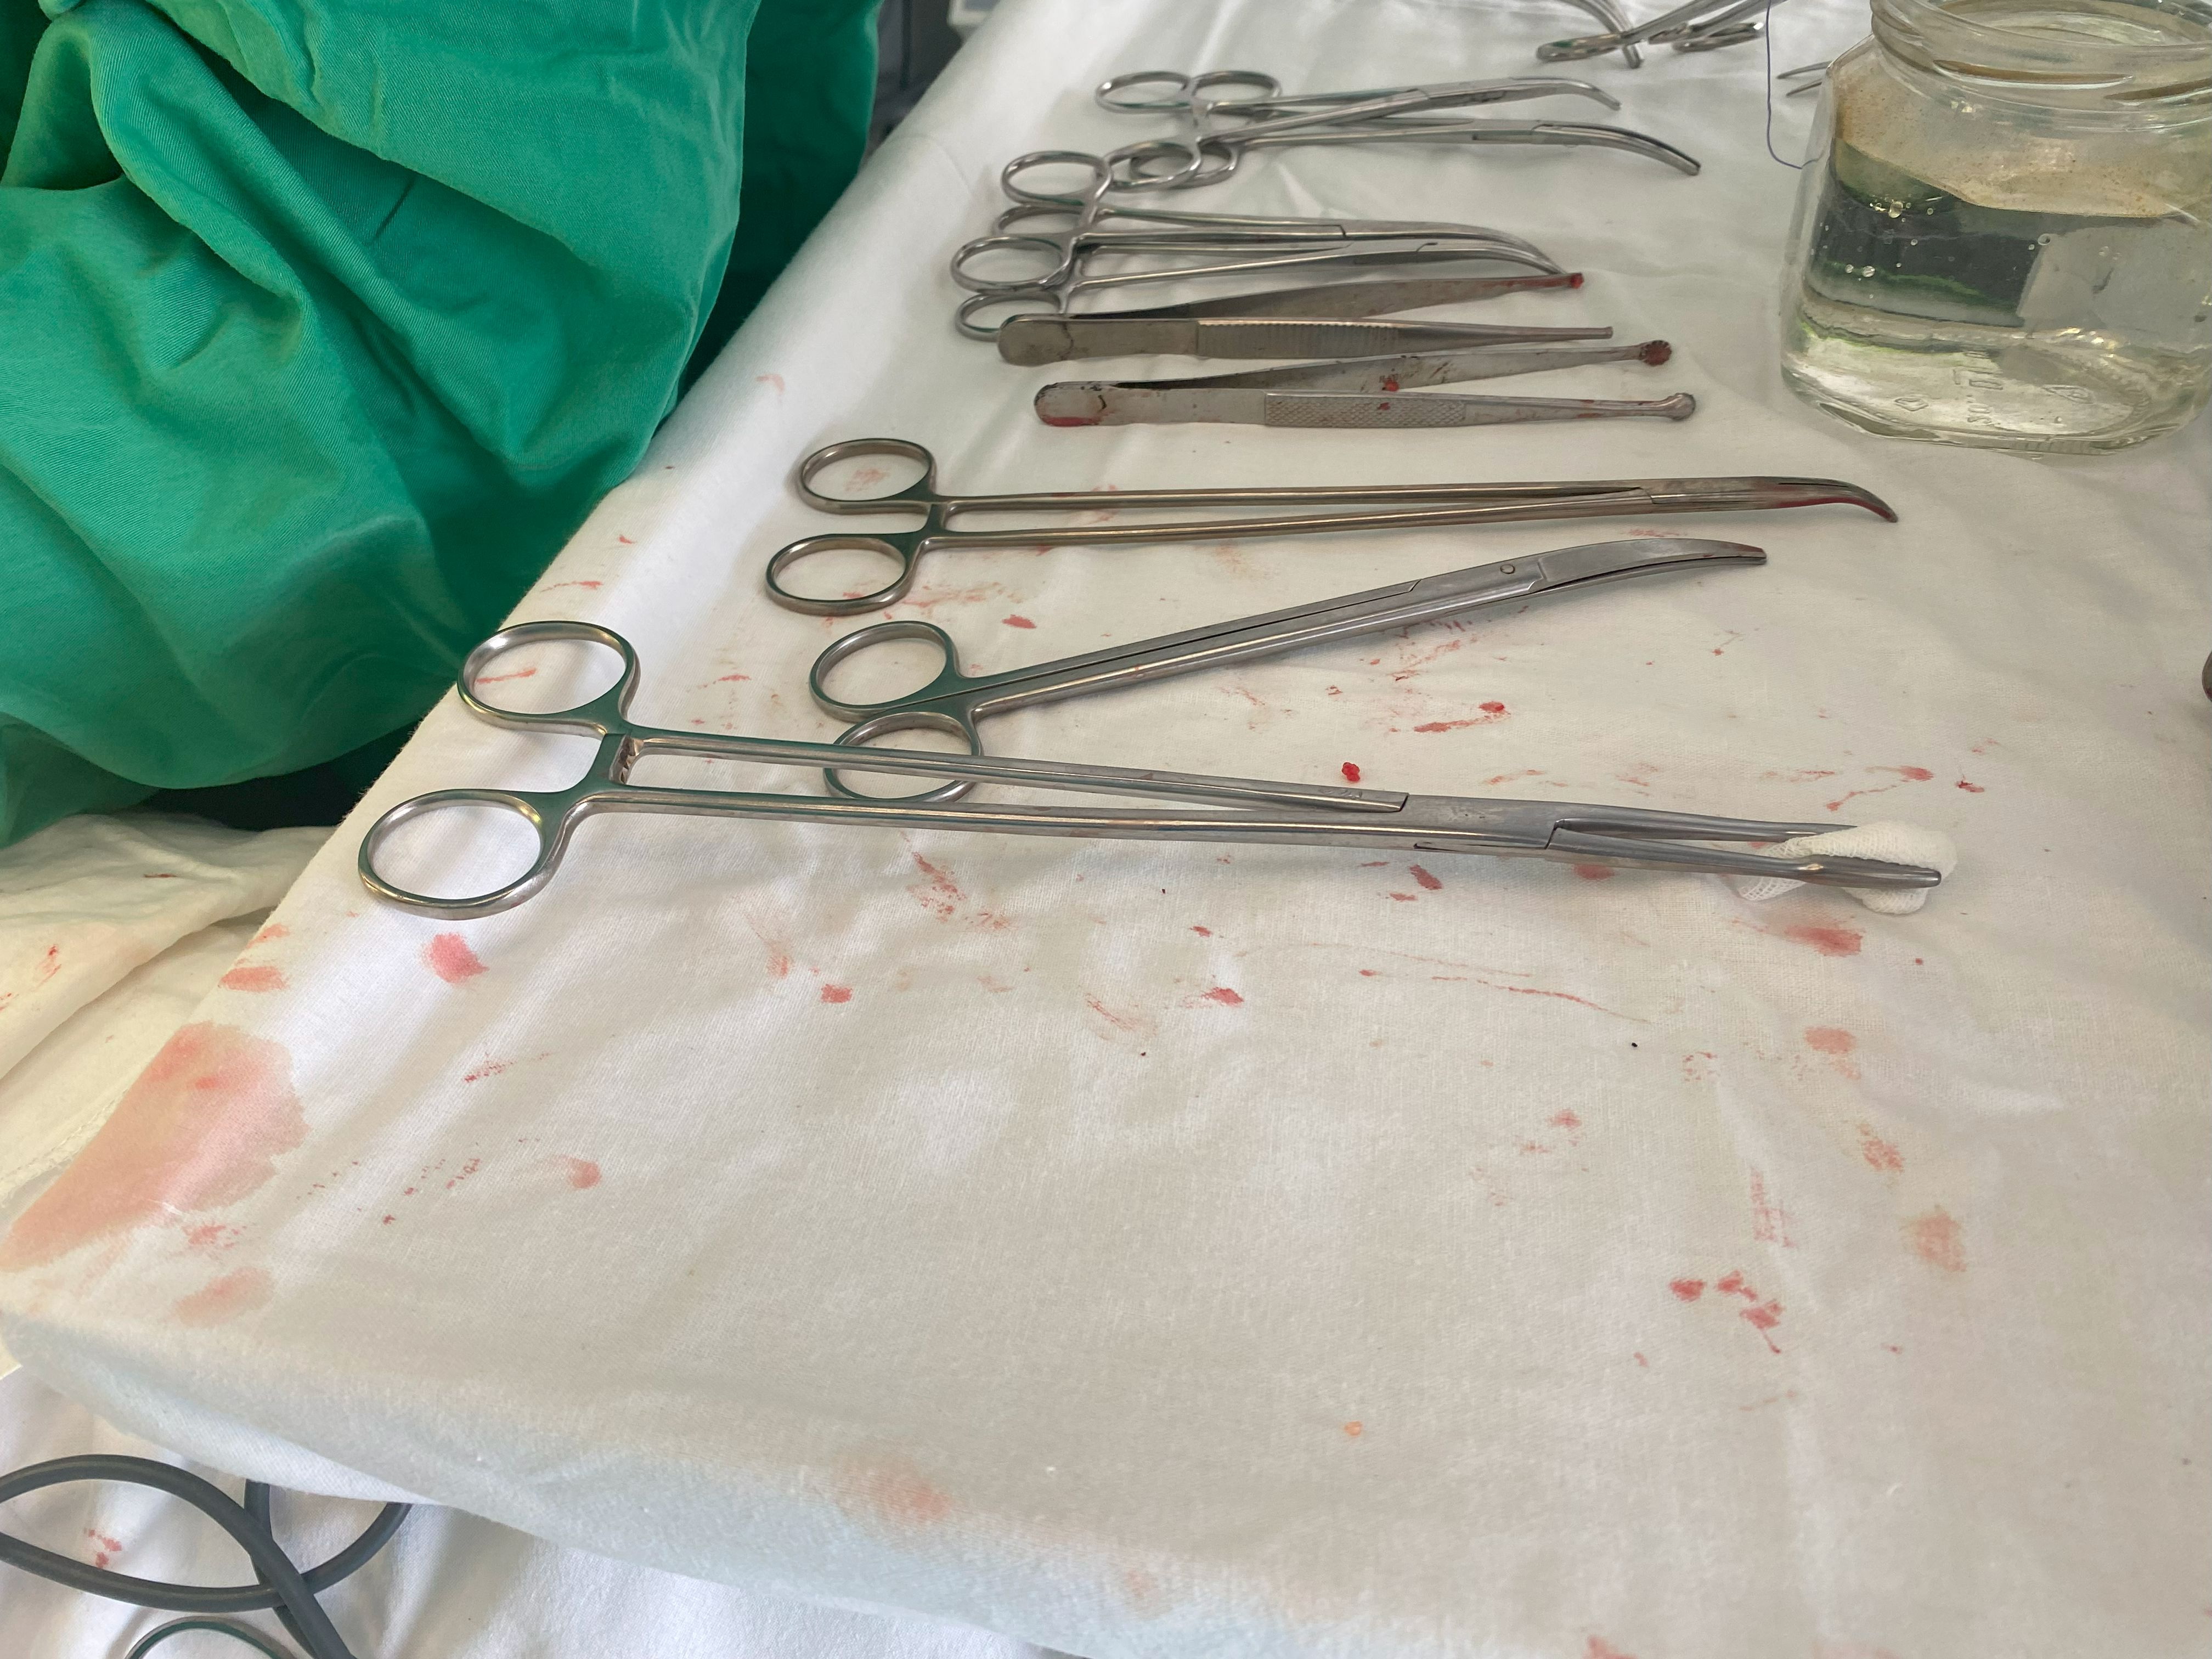clamp: (359, 620, 1947, 918), (765, 437, 1897, 617), (951, 150, 1552, 291), (1097, 71, 1620, 192)
scissors: (810, 538, 1764, 751)
tweezers: (1035, 340, 1695, 429), (996, 272, 1611, 366)
